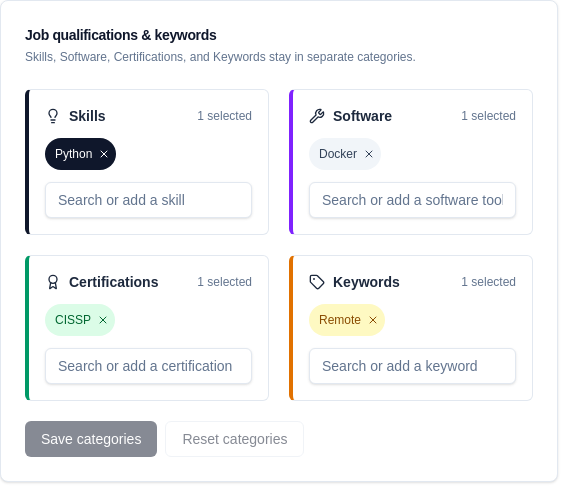
Test case: JobTaxonomyCard › surfaces category lookup loading, empty, and retryable error states accessibly
The width and height of the screenshot is (575, 500).
In the dropdown named "Search or add skills": point(148, 200) [45,182,252,218], type "new"
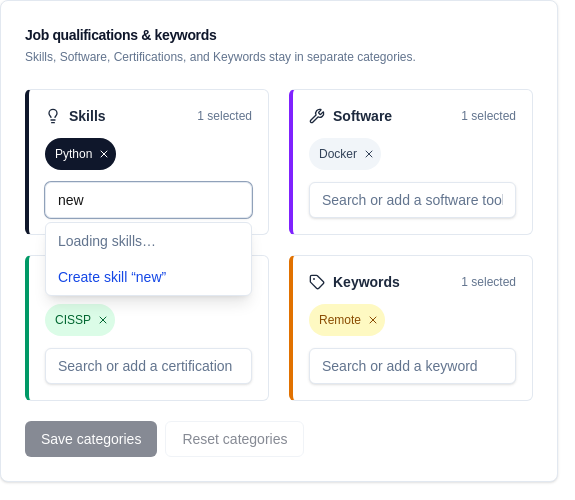
Expected: the text "Loading skills…" is shown, [58,233,156,249]
In the dropdown named "Search or add software": point(412, 200) [309,182,516,218], type "new"
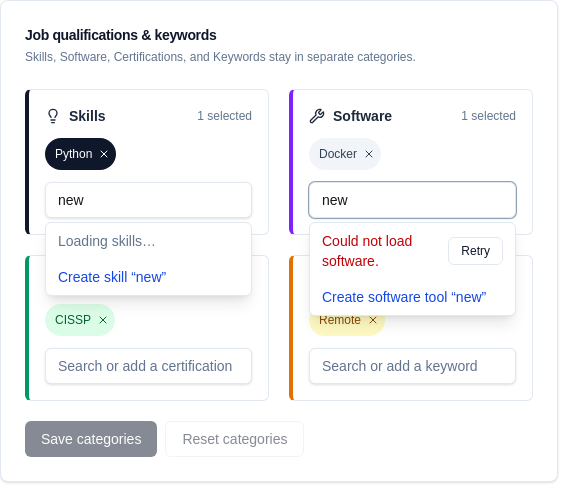
Expected: the message shows "Could not load software", [310,223,515,279]
Click the button "Retry": point(476, 251) [448,237,503,265]
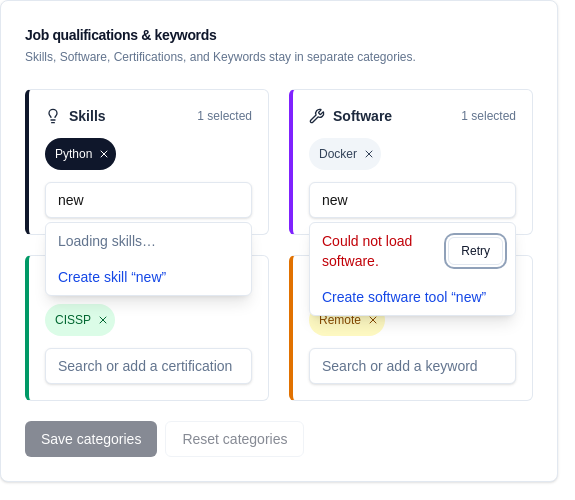
In the dropdown named "Search or add certifications": point(148, 366) [45,348,252,384], type "new"
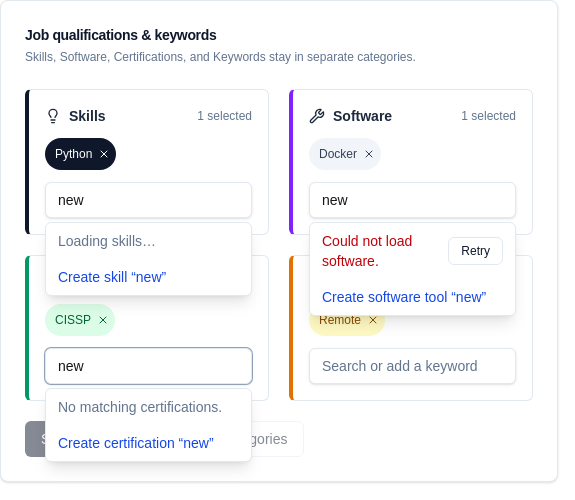
Expected: the text "No matching certifications." is shown, [58,399,222,415]
Expected: the option "Create certification “new”" is shown, [46,425,251,461]
